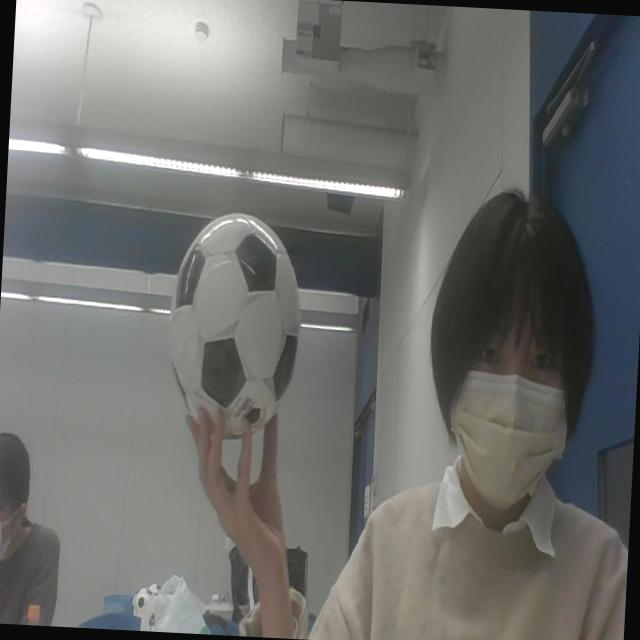Soccer Ball: (166, 210, 304, 418)
